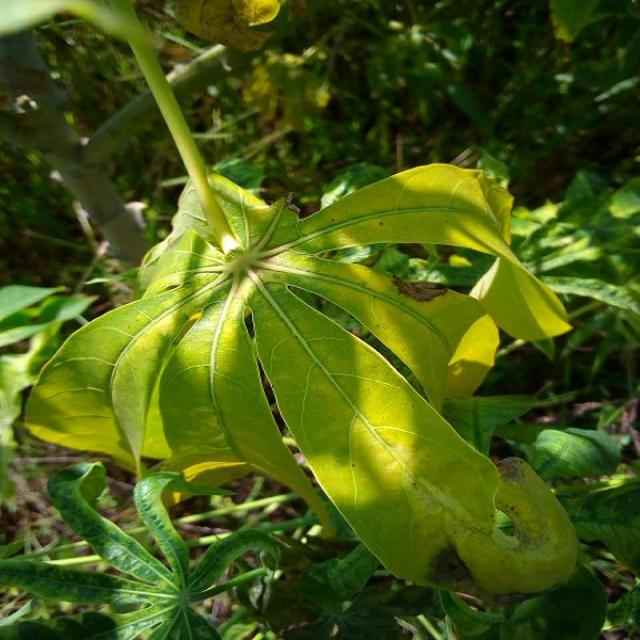cassava leaf: (22, 159, 578, 599)
